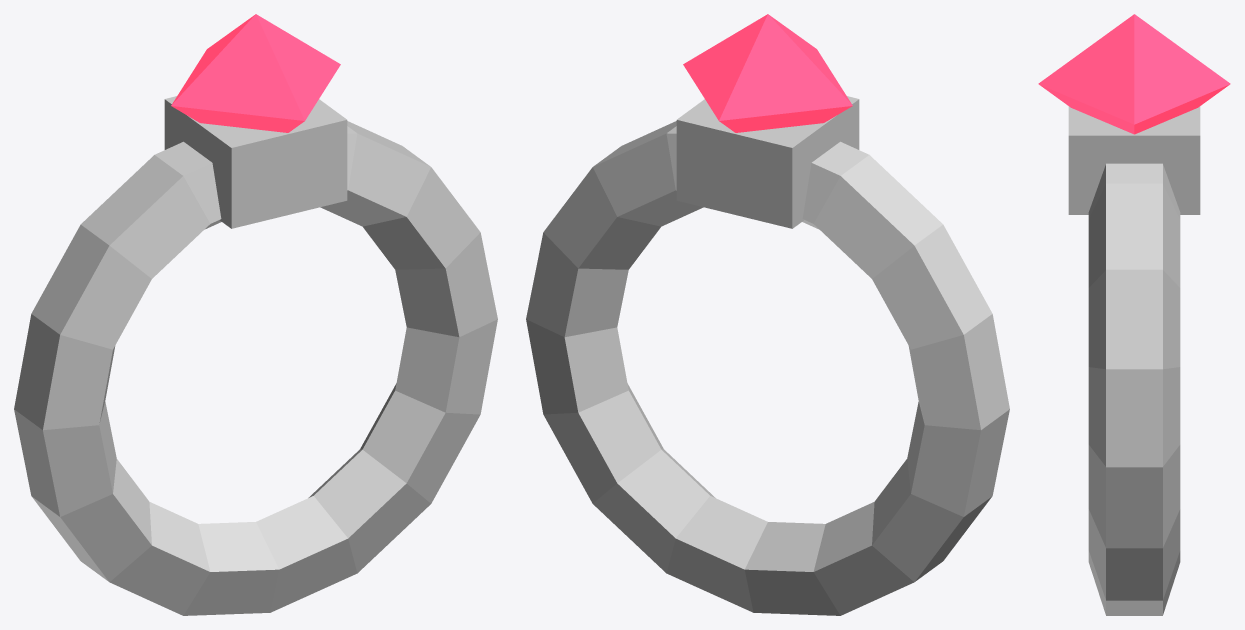
File: jewel_ring.glb
3 renders of one model, left to right at view 1: azimuth 30°, elevation 25°; view 2: azimuth 150°, elevation 25°; view 3: azimuth 270°, elevation 25°, orthographic.
Parts seen in each view (by area): view 1: jewel_ring; view 2: jewel_ring; view 3: jewel_ring.
Boxes of the visible parts, <box> form: jewel_ring: <box>14,14,497,615</box>; jewel_ring: <box>526,14,1009,615</box>; jewel_ring: <box>1038,14,1230,615</box>.
Size of the model in its own units: 0.1178 by 0.1455 by 0.044.
